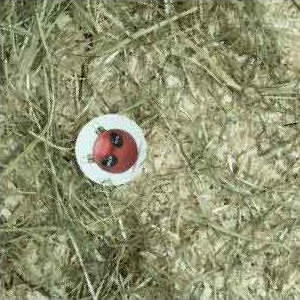badge: (73, 116, 148, 184)
